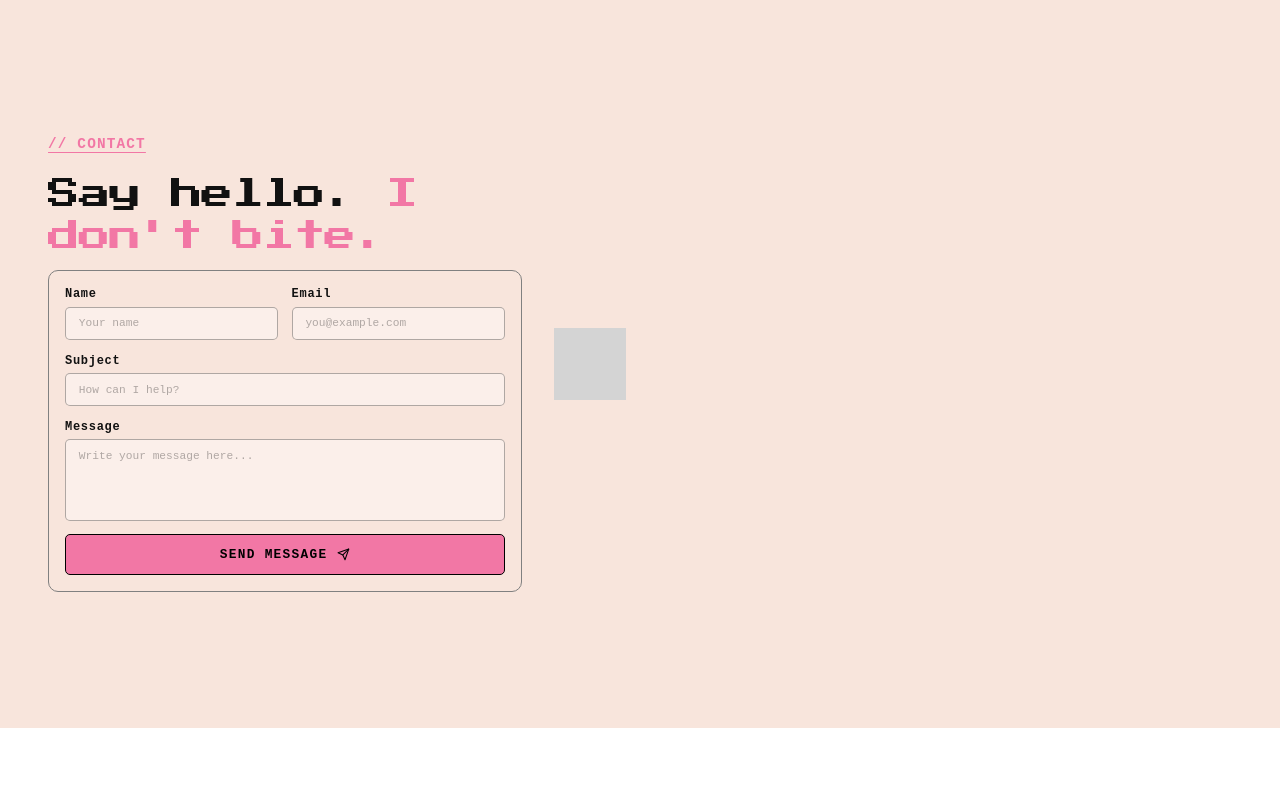
Scenario: ContactSection › shows an error and preserves the form when sending fails
Type "Rashell Guerrero" into the field labelled "Name" at (172,323), box top-left (65, 307), bottom-right (278, 340)
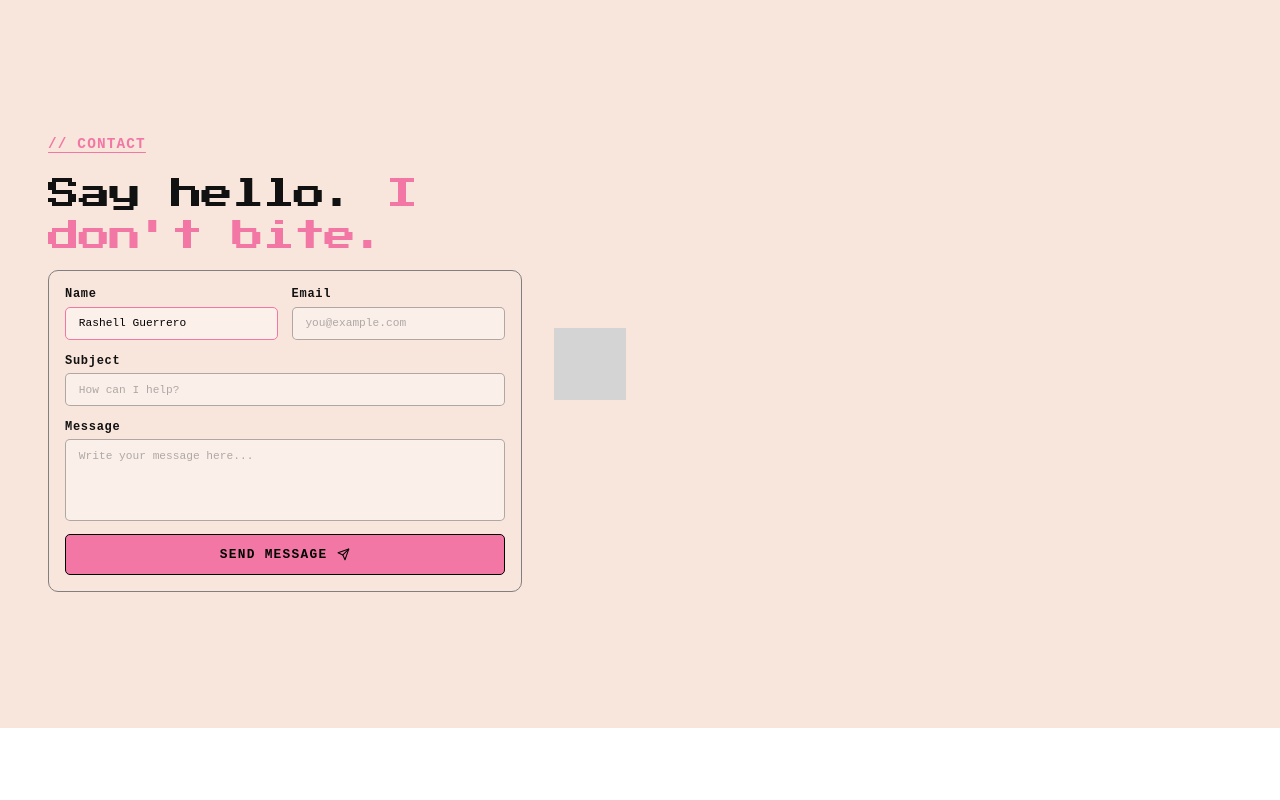
Type "rashell@example.com" into the field labelled "Email" at (398,323), box top-left (292, 307), bottom-right (505, 340)
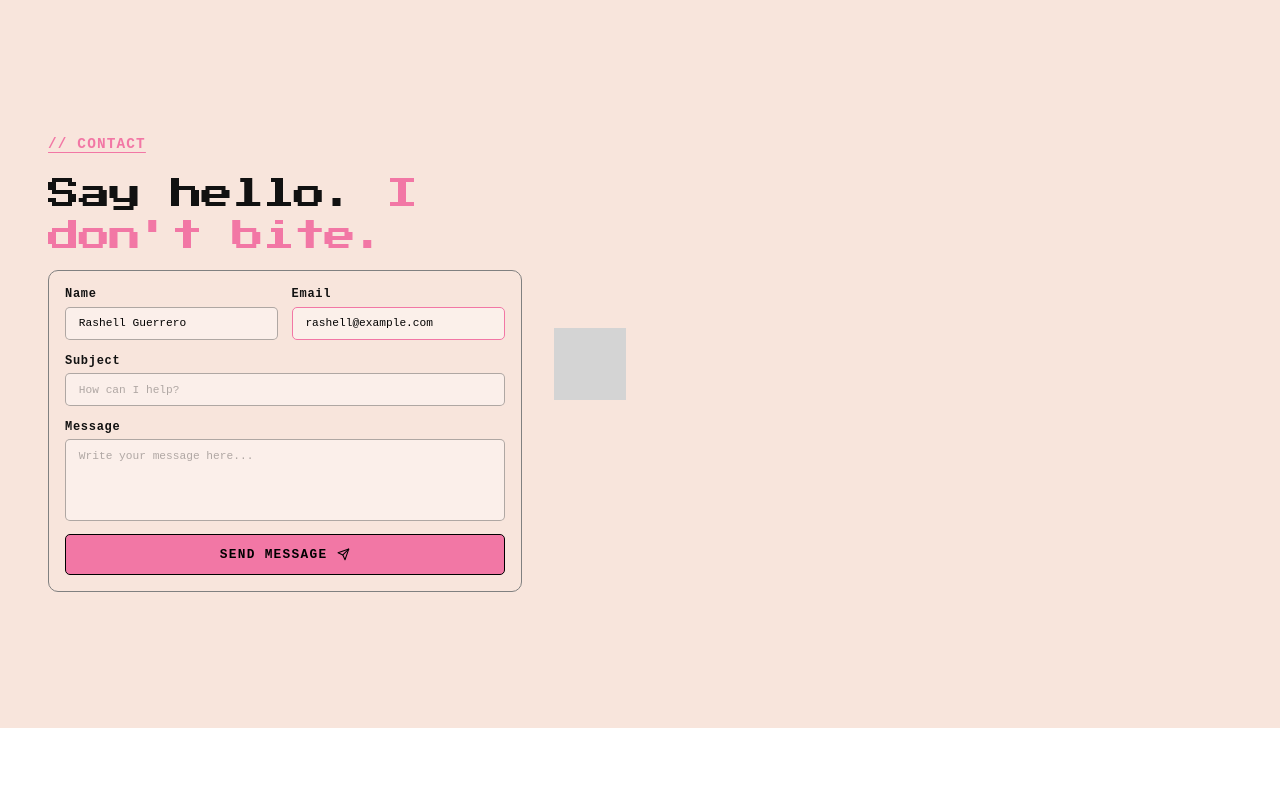
Type "Portfolio inquiry" into the field labelled "Subject" at (285,390), box top-left (65, 373), bottom-right (505, 406)
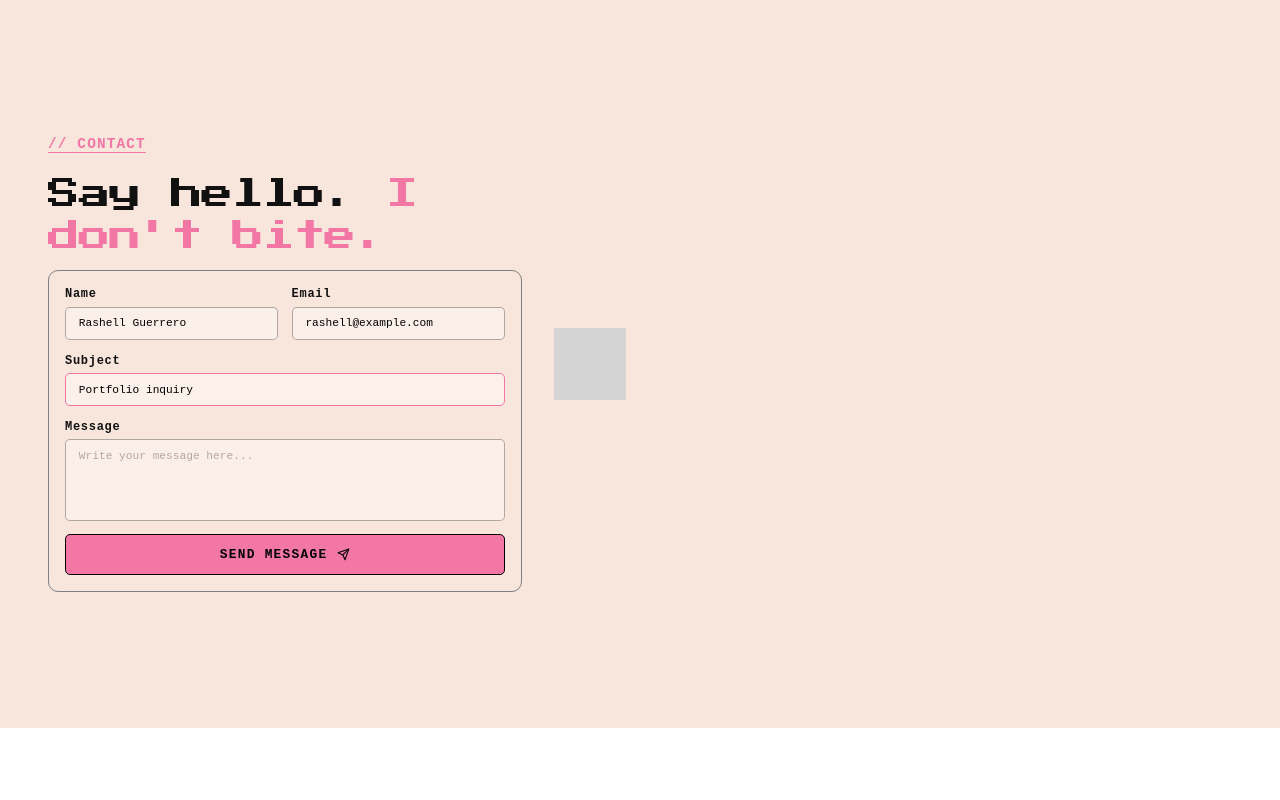
Type "I would like to discuss a software engineering opportunity." into the text box labelled "Message" at (285,480), box top-left (65, 440), bottom-right (505, 521)
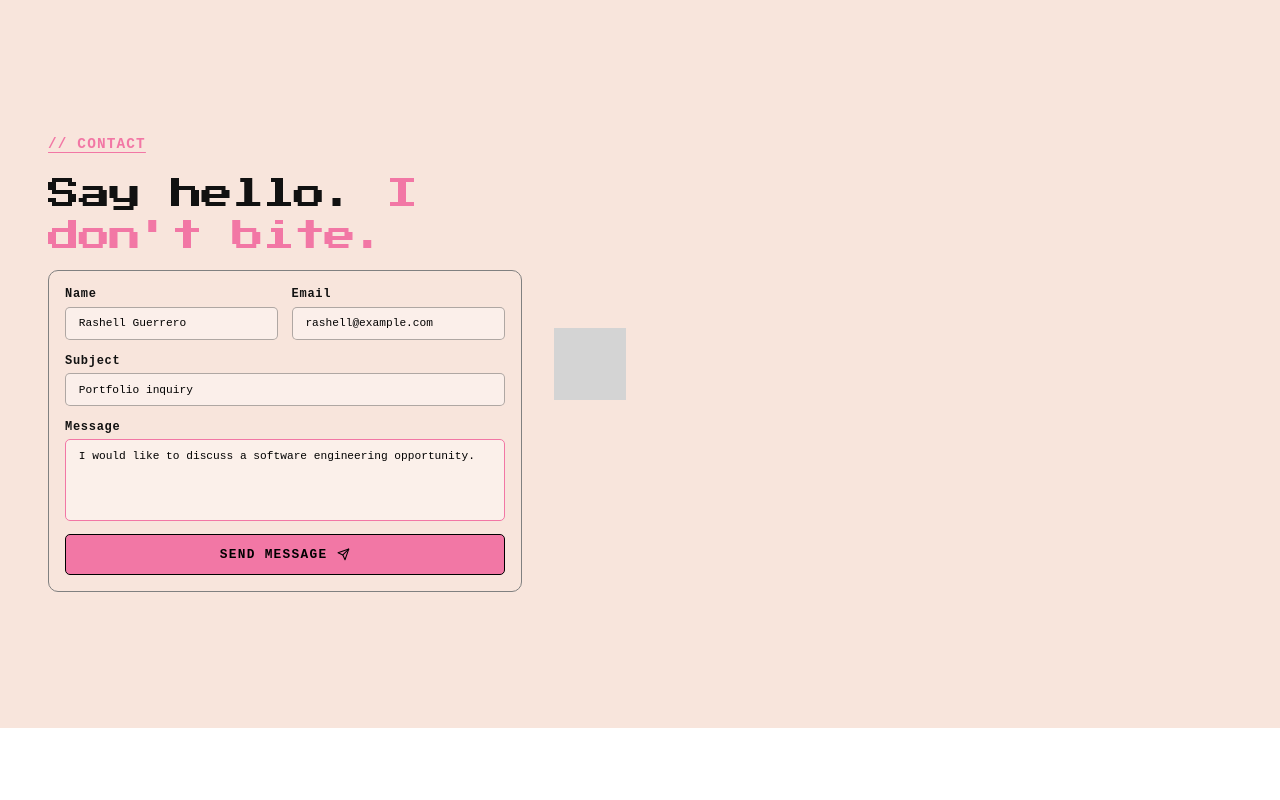
Click the button "SEND MESSAGE" at (285,555), box top-left (65, 534), bottom-right (505, 575)
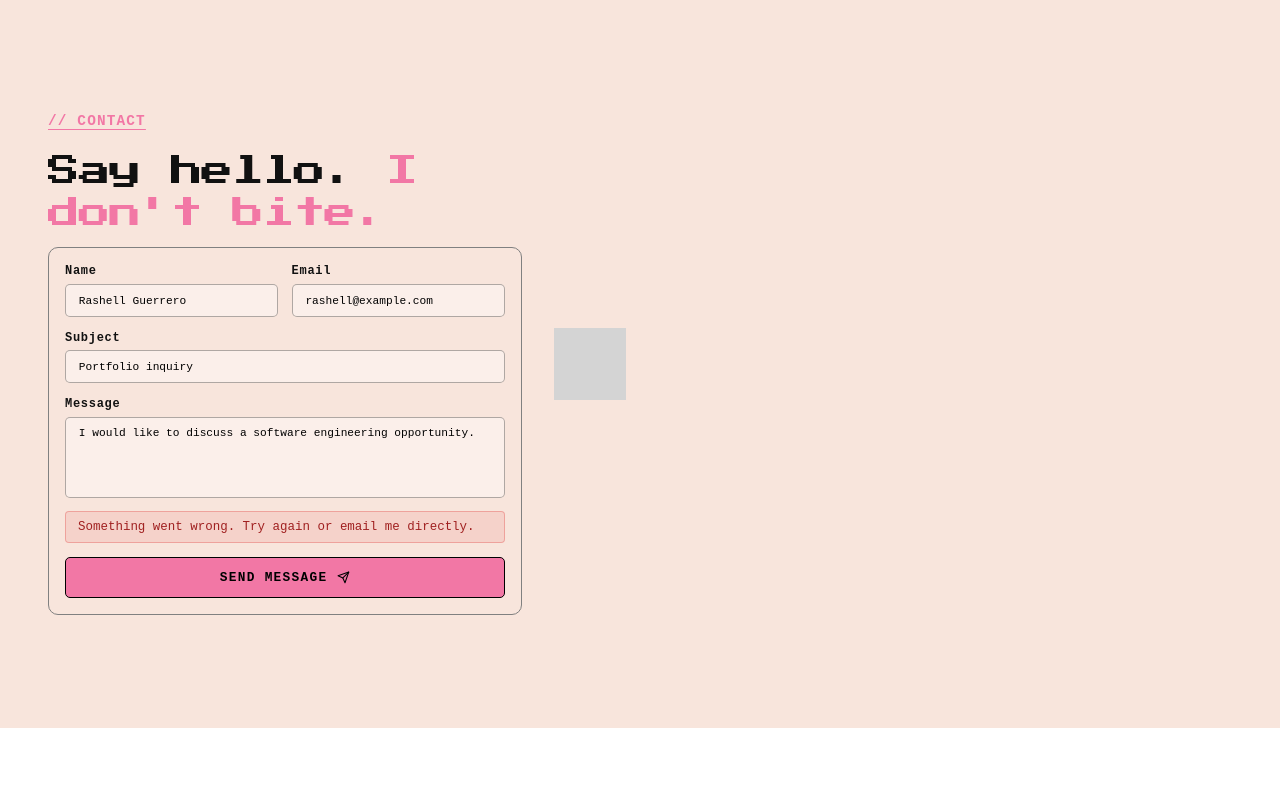
Expected: the button "SEND MESSAGE" is enabled, top-left (65, 557), bottom-right (505, 598)
Result: the message reads "Something went wrong. Try again or email me directly." at top-left (78, 520), bottom-right (475, 534)
